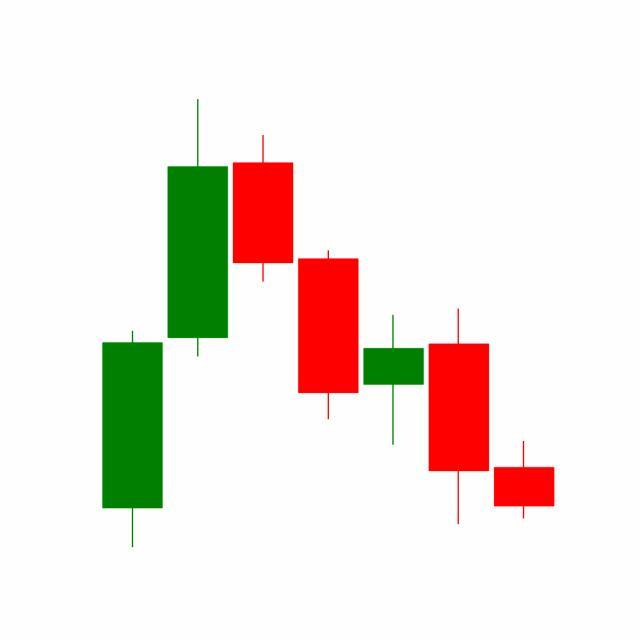Three Outside Up-Down: (360, 306, 556, 527)
